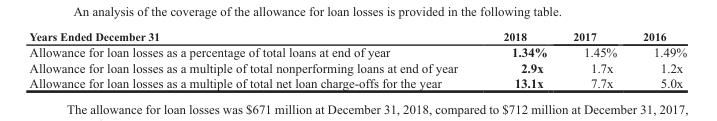table: (28, 29, 686, 90)
table column: (28, 29, 479, 90), (479, 29, 559, 90), (559, 29, 629, 90), (629, 29, 686, 90)
table column header: (28, 29, 686, 43)
table row: (28, 43, 686, 59), (28, 59, 686, 75), (28, 75, 686, 90), (28, 29, 686, 43)
